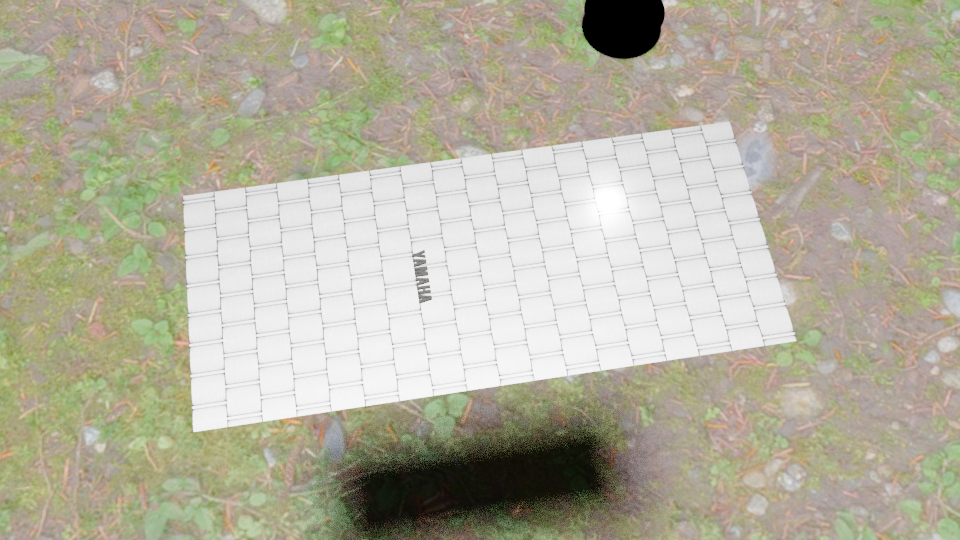yamaha_letters: (411, 248, 432, 303)
